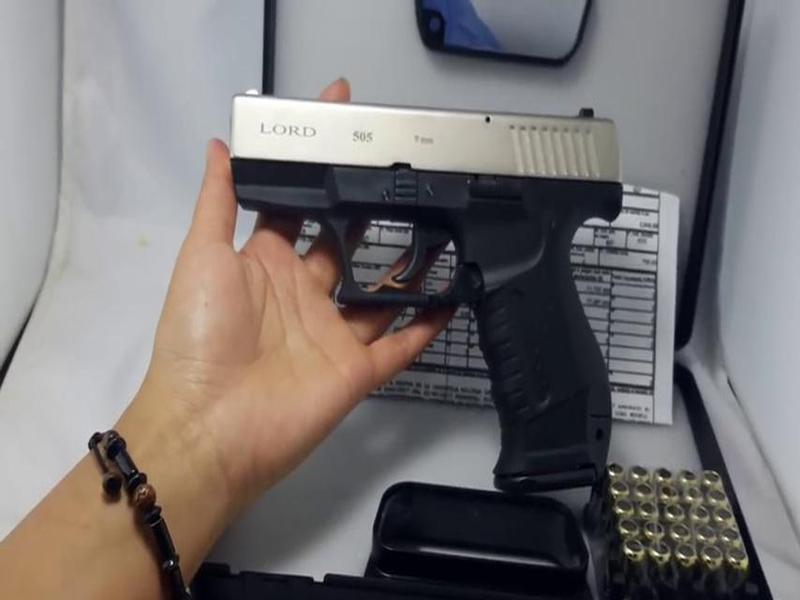Pistola: (207, 84, 670, 504)
